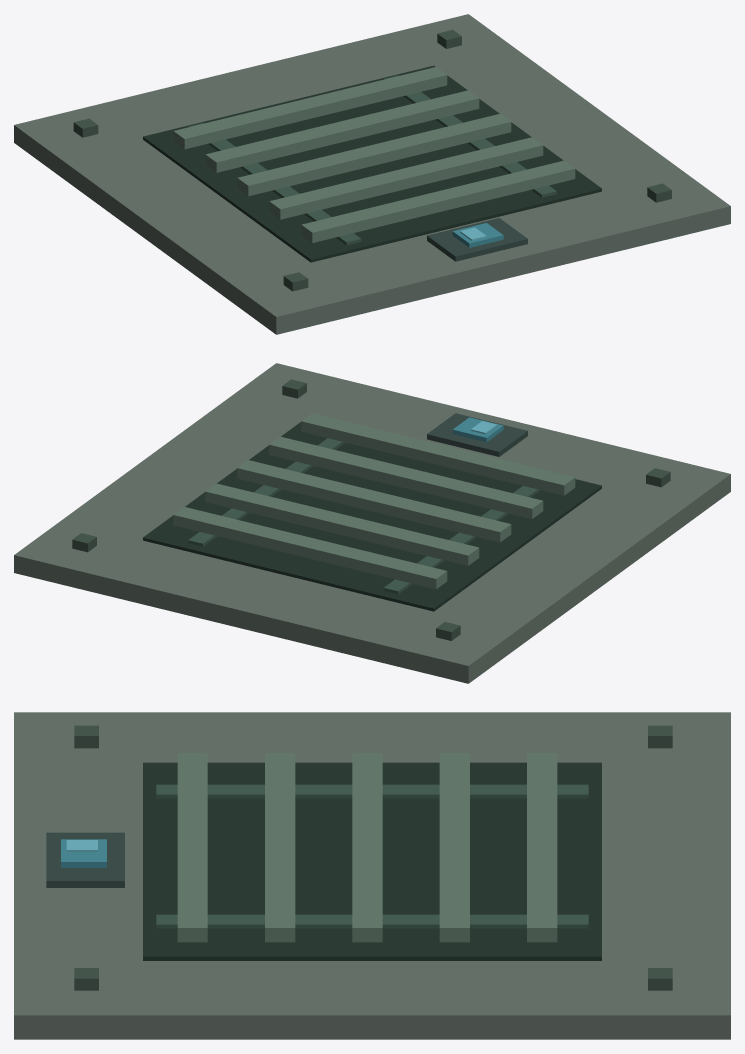
File: CMU3DFloorVentPump.glb
3 views of the same model, one above another, from view 1: azimuth 30°, elevation 25°; view 2: azimuth 150°, elevation 25°; view 3: azimuth 270°, elevation 25° (orthographic). The views are drawn at different scales.
Visible parts, largest first — view 1: floor vent flange, vent horizontal slat (×5), vent dark inset, recessed grille support (×2), status socket, cyan status inset; view 2: floor vent flange, vent horizontal slat (×5), vent dark inset, recessed grille support (×2), status socket, cyan status inset; view 3: floor vent flange, vent dark inset, vent horizontal slat (×5), recessed grille support (×2), status socket, flange corner bolt (×4), cyan status inset.
Boxes of the visible parts, box(x1,y1,x2,y2) form: floor vent flange: box(14, 14, 730, 334); vent horizontal slat (×5): box(173, 67, 575, 242); vent dark inset: box(143, 65, 601, 262); recessed grille support (×2): box(188, 75, 556, 245); status socket: box(427, 218, 527, 261); cyan status inset: box(452, 223, 503, 247); floor vent flange: box(14, 363, 730, 683); vent horizontal slat (×5): box(173, 413, 575, 589); vent dark inset: box(143, 422, 601, 611); recessed grille support (×2): box(188, 438, 540, 594); status socket: box(427, 413, 527, 456); cyan status inset: box(452, 417, 503, 442); floor vent flange: box(14, 712, 730, 1039); vent dark inset: box(143, 762, 601, 960); vent horizontal slat (×5): box(177, 753, 557, 942); recessed grille support (×2): box(156, 784, 588, 928); status socket: box(46, 832, 124, 887); flange corner bolt (×4): box(74, 725, 672, 990); cyan status inset: box(61, 839, 106, 867).
Size of the model in its own units: 0.64 by 0.047 by 0.64.
